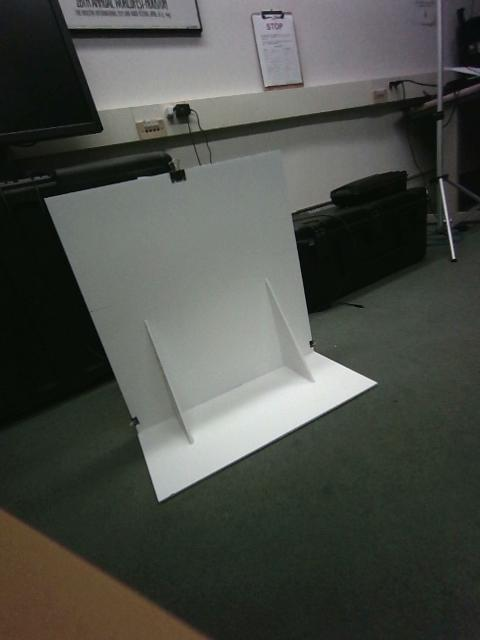block: (343, 302, 391, 365)
